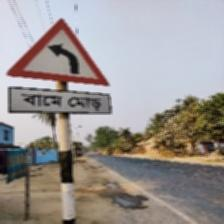Left-Turn: (5, 16, 112, 116)
